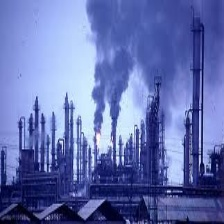smoke: (89, 1, 183, 131)
